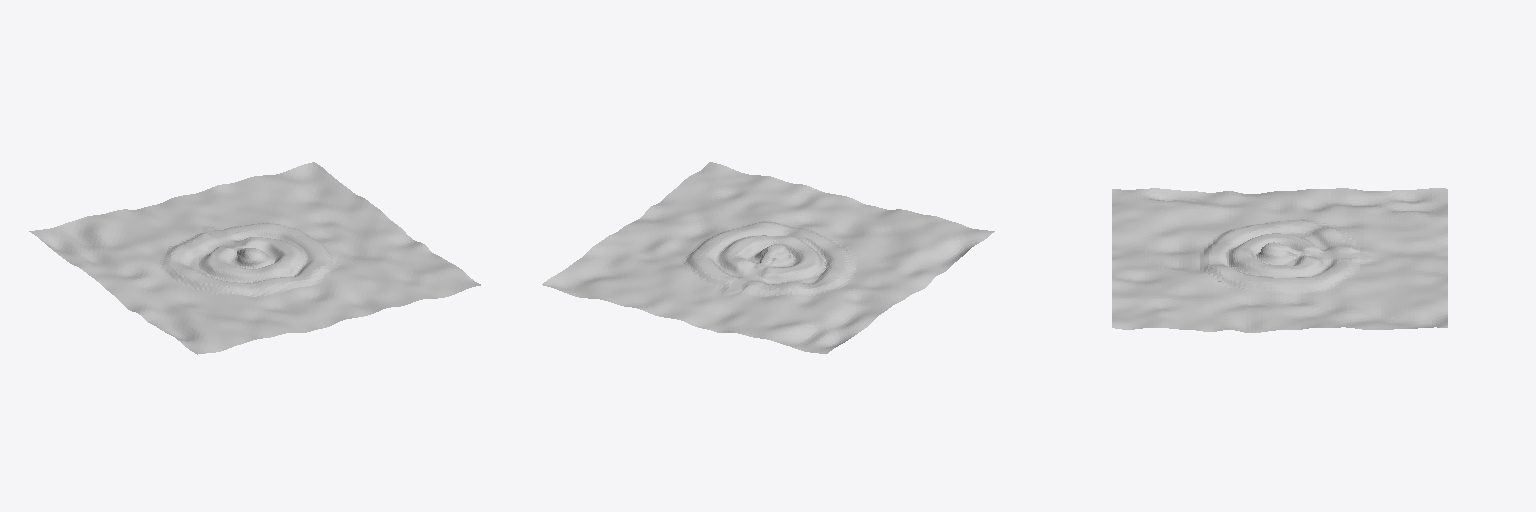
File: strada_terrain2.obj
3 renders of one model, left to right at view 1: azimuth 30°, elevation 25°; view 2: azimuth 150°, elevation 25°; view 3: azimuth 270°, elevation 25°, orthographic.
Visible parts, largest first — view 1: desert_obj:Plane01; view 2: desert_obj:Plane01; view 3: desert_obj:Plane01.
Part boxes in pixels (x1,y1,x2,y2): desert_obj:Plane01: (29,162,480,354); desert_obj:Plane01: (542,162,994,353); desert_obj:Plane01: (1112,188,1447,332).
Bounding box in the file's own units: 116 × 6.83 × 119.